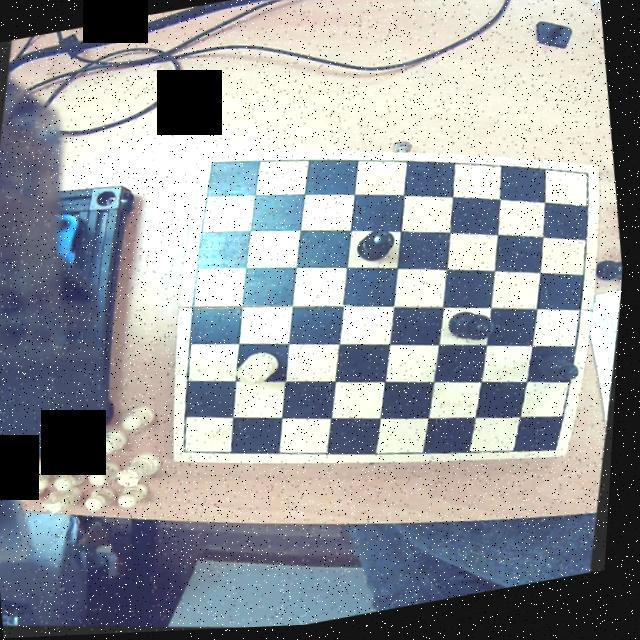chess-table-corners: (202, 152, 234, 182), (542, 440, 576, 466), (176, 436, 206, 464), (576, 169, 604, 195)
